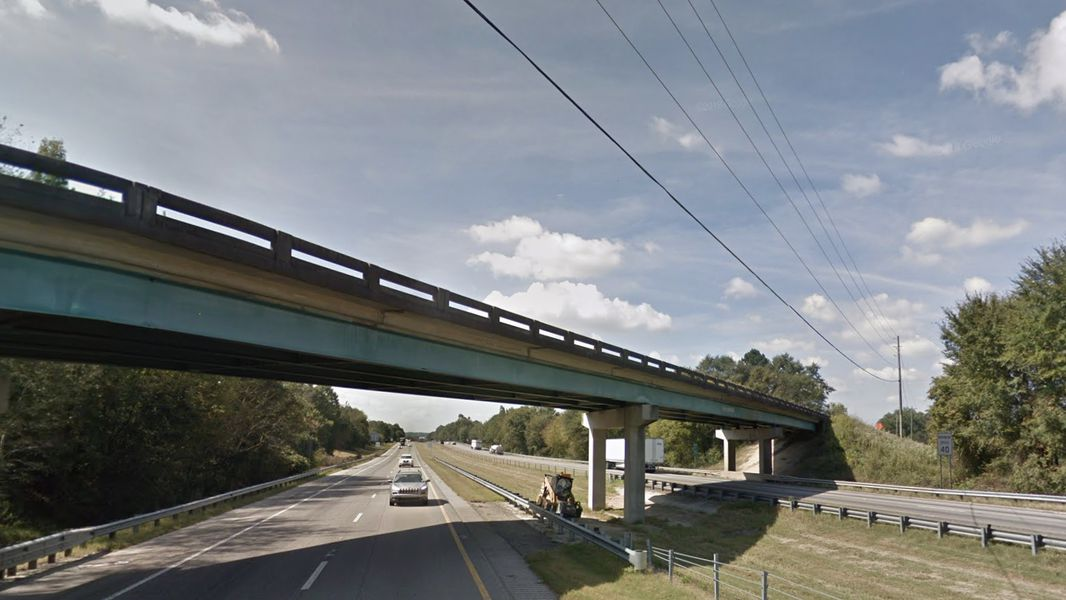bridge: (3, 146, 829, 440)
